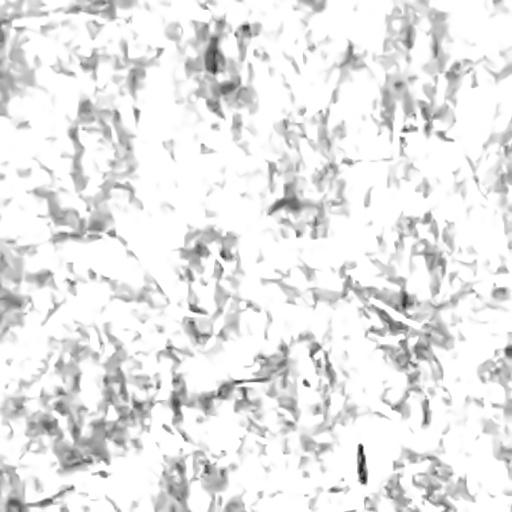egg: (357, 443, 367, 484)
